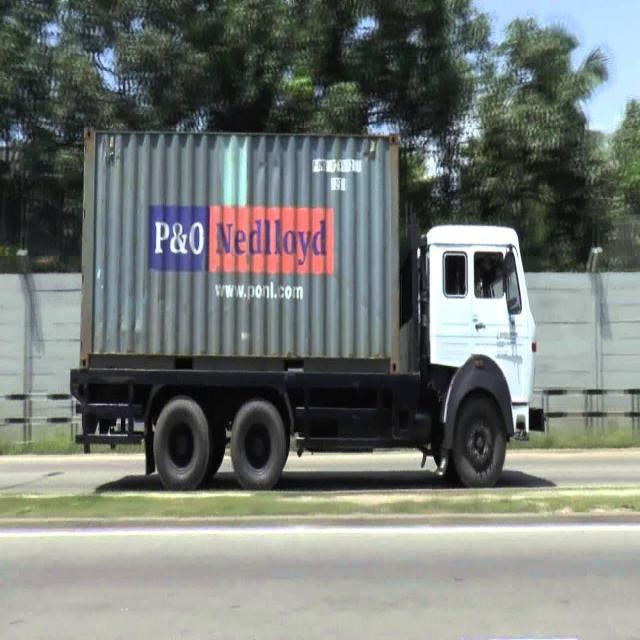truck: (78, 113, 534, 483)
